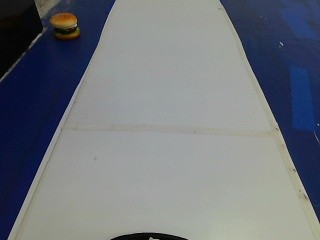burger: (41, 10, 85, 44)
